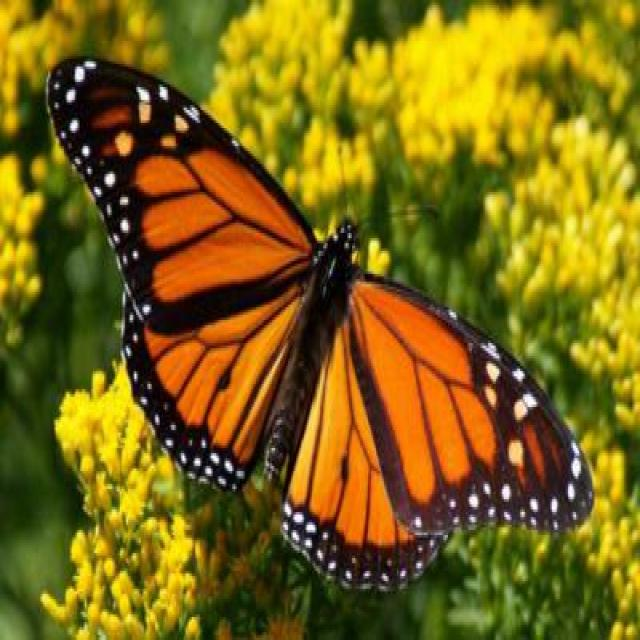antennae: (329, 127, 446, 238)
body: (266, 214, 358, 479)
insect: (48, 56, 596, 590)
wings: (48, 56, 318, 493), (282, 266, 594, 590)
